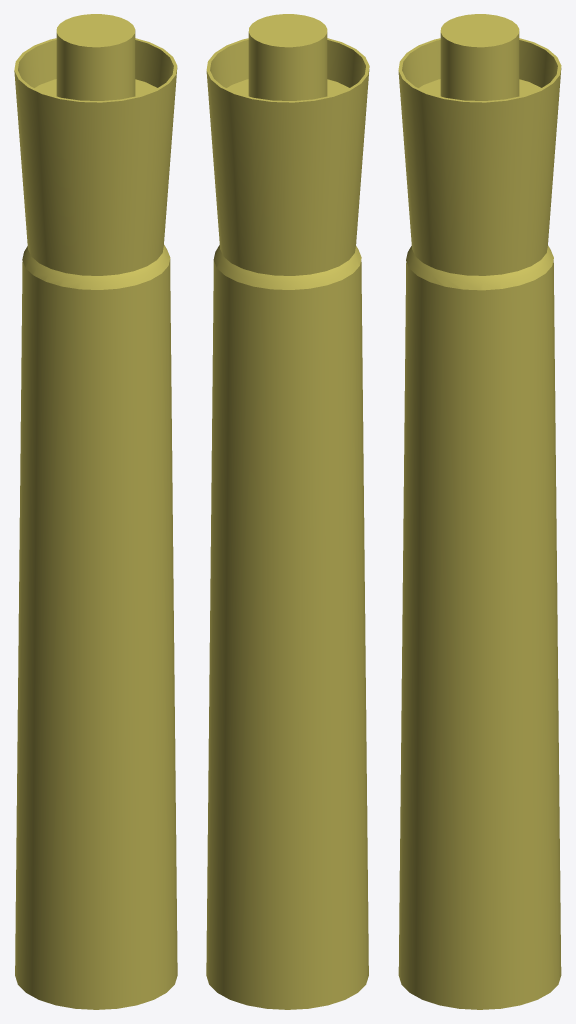
Rendered from marker_yellow.fbx.
3 views of the same model, side by side, from view 1: azimuth 30°, elevation 25°; view 2: azimuth 150°, elevation 25°; view 3: azimuth 270°, elevation 25° (orthographic).
Parts seen in each view (by area): view 1: yellow_marker, yellow_cap; view 2: yellow_marker, yellow_cap; view 3: yellow_marker, yellow_cap.
Boxes of the visible parts, x1,y1,x2,y2 form: yellow_marker: (15, 245, 177, 1009); yellow_cap: (14, 14, 177, 275); yellow_marker: (206, 245, 368, 1009); yellow_cap: (206, 14, 369, 275); yellow_marker: (398, 245, 561, 1009); yellow_cap: (398, 14, 561, 275).
Bounding box in the file's own units: 1.86 × 11.87 × 1.86.
